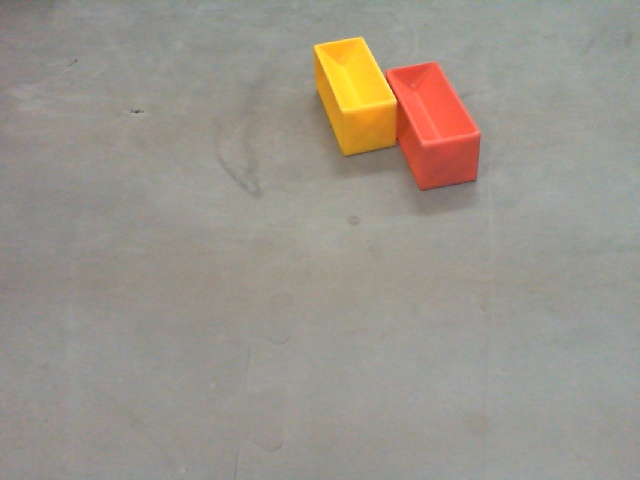RedSample: (383, 63, 483, 197)
YellowSample: (311, 37, 397, 160)
